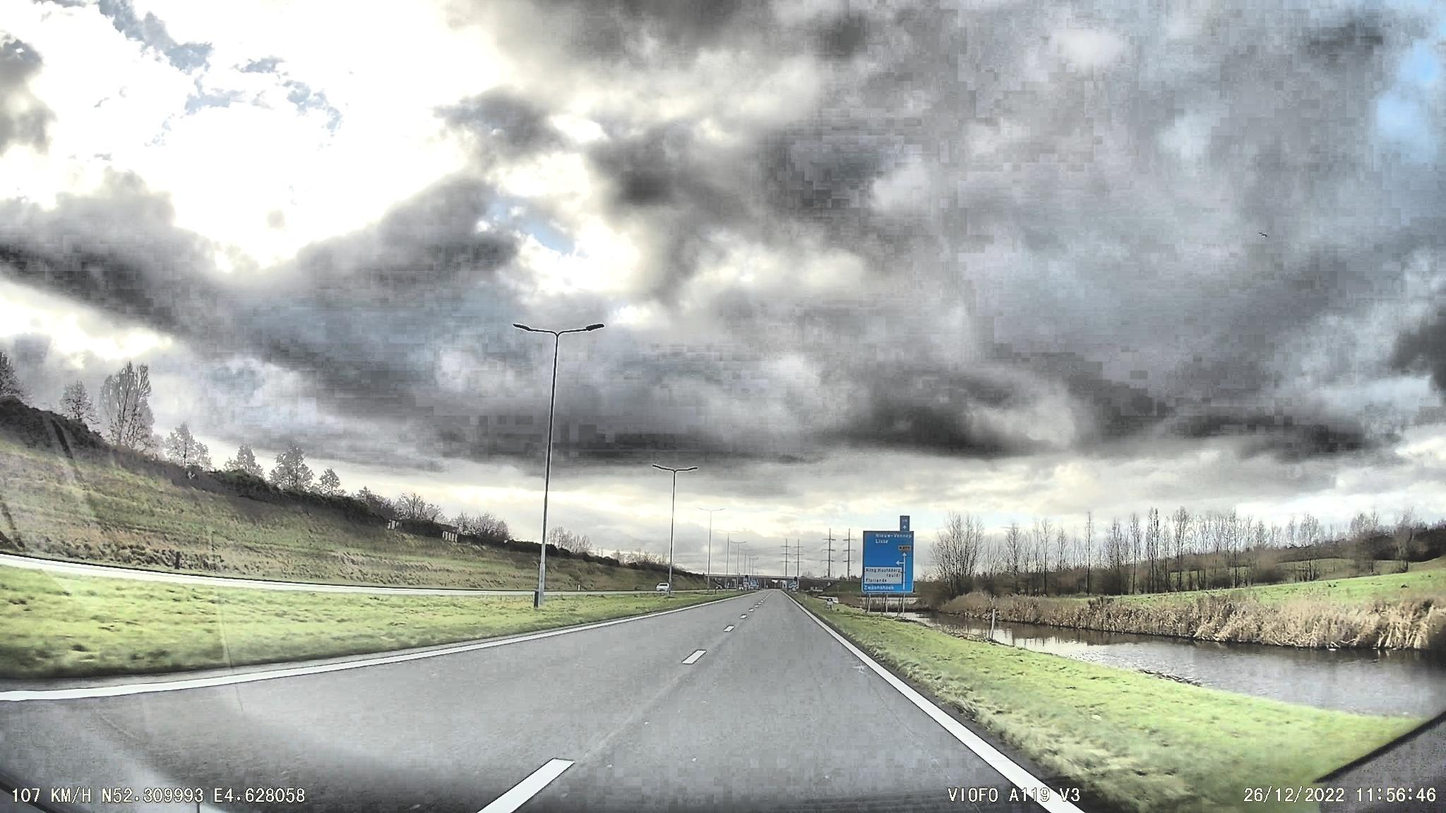Roads: (0, 589, 1120, 813)
